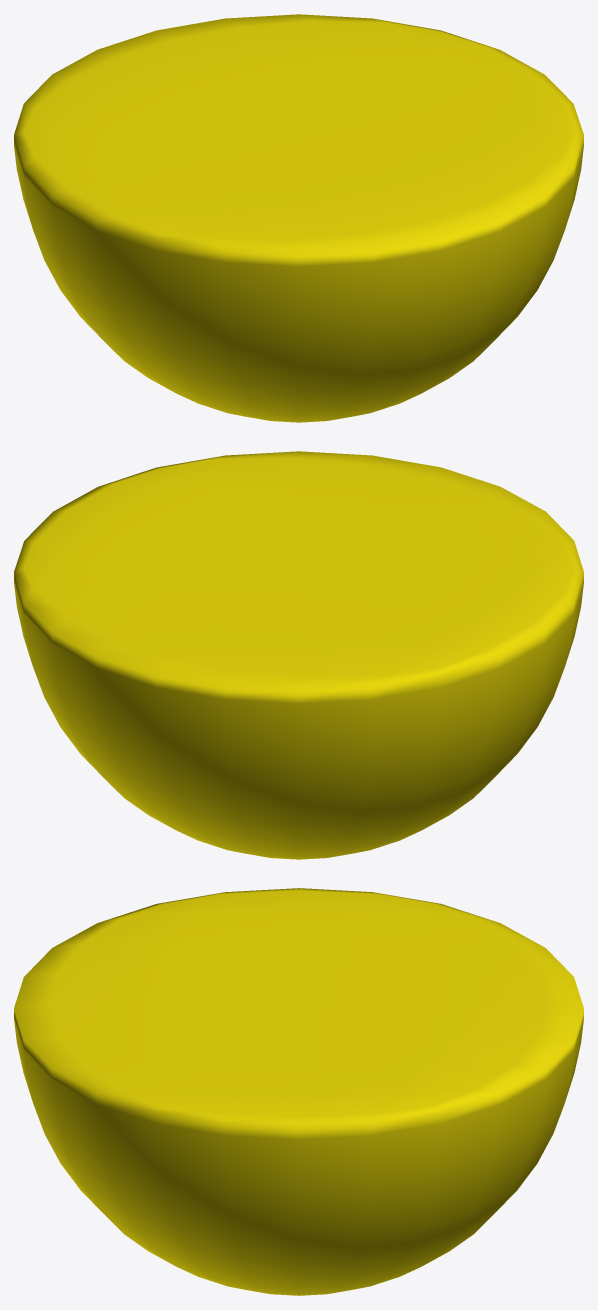
The model's file is Lemon.fbx.
The picture shows the model from 3 angles, top to bottom: view 1: azimuth 30°, elevation 25°; view 2: azimuth 150°, elevation 25°; view 3: azimuth 270°, elevation 25°; orthographic projection.
Visible parts, largest first — view 1: Lemon; view 2: Lemon; view 3: Lemon.
Part boxes in pixels (x1=…): Lemon: x1=14, y1=14, x2=583, y2=422; Lemon: x1=14, y1=451, x2=583, y2=859; Lemon: x1=14, y1=888, x2=583, y2=1295.
Bounding box in the file's own units: 64.88 × 33.84 × 65.09.
